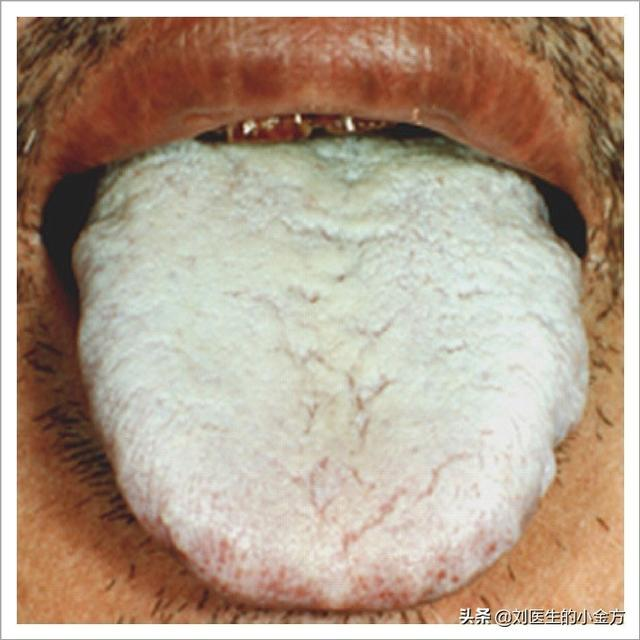tongue: (72, 142, 595, 616)
